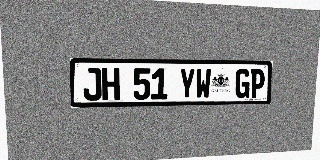1: (151, 68, 168, 100)
5: (134, 68, 150, 100)
G: (235, 69, 250, 98)
H: (102, 68, 120, 100)
J: (83, 68, 102, 101)
P: (250, 69, 265, 98)
W: (195, 68, 211, 99)
Y: (179, 68, 195, 99)
